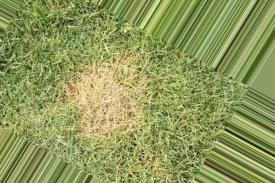patch: (76, 63, 117, 112), (125, 76, 151, 115), (125, 43, 154, 69), (84, 119, 117, 141), (136, 159, 166, 182), (43, 94, 70, 110)
